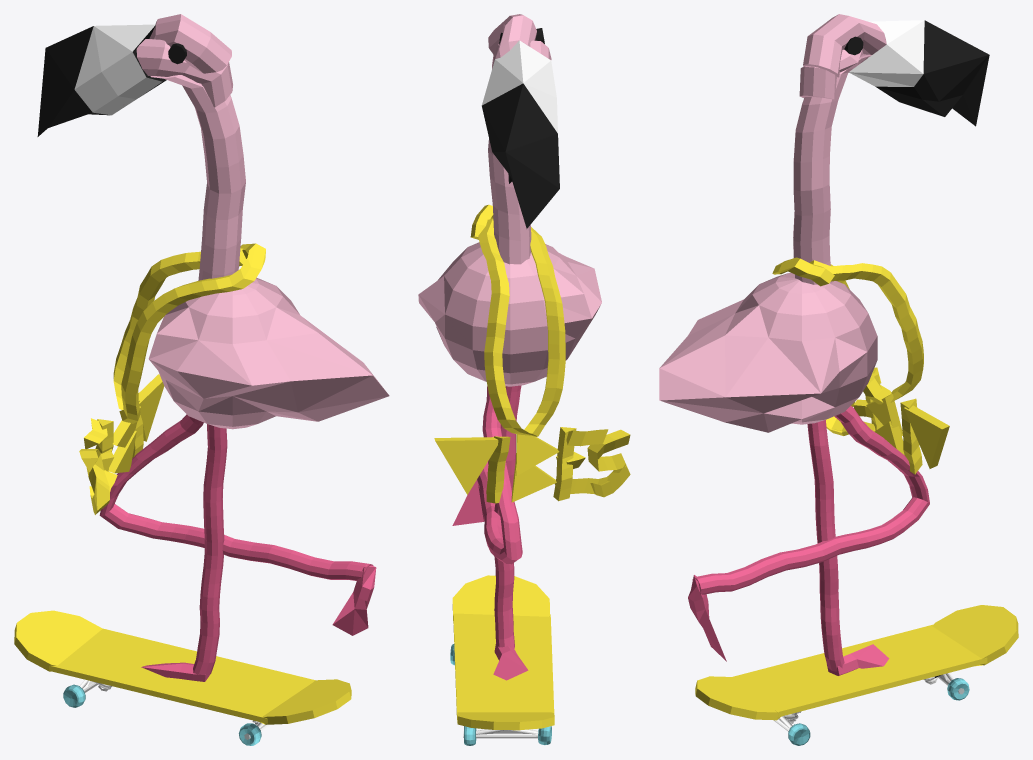
File: vibes.glb
3 renders of one model, left to right at view 1: azimuth 30°, elevation 25°; view 2: azimuth 150°, elevation 25°; view 3: azimuth 270°, elevation 25°, orthographic. The views are drawn at different scales.
Visible parts, largest first — view 1: group537424662, group312662730, group1838071820, group1372230690, group913120254, group1989746894, group1755845512, group290216238, group1460174996, group535091128, group1148749034, group1765155236 (+2 smaller); view 2: group537424662, group312662730, group1838071820, group913120254, group1989746894, group1372230690, group1755845512, group1765155236, group1148749034, group290216238, group1739752717, group614498573 (+6 smaller); view 3: group537424662, group312662730, group1838071820, group1989746894, group1372230690, group913120254, group1755845512, group290216238, group1765155236, group1460174996, group535091128, group1639385418 (+2 smaller).
Boxes of the visible parts, x1,y1,x2,y2 form: group537424662: (148, 277, 389, 429); group312662730: (14, 610, 351, 745); group1838071820: (37, 24, 166, 136); group1372230690: (150, 75, 245, 280); group913120254: (113, 243, 265, 423); group1989746894: (99, 414, 373, 580); group1755845512: (193, 424, 227, 674); group290216238: (149, 14, 231, 73); group1460174996: (136, 39, 232, 107); group535091128: (332, 564, 376, 635); group1148749034: (79, 449, 109, 514); group1765155236: (138, 374, 164, 441); group537424662: (418, 242, 601, 386); group312662730: (450, 575, 554, 745); group1838071820: (481, 40, 559, 228); group913120254: (470, 204, 565, 436); group1989746894: (477, 386, 522, 564); group1372230690: (488, 138, 531, 264); group1755845512: (494, 385, 521, 648); group1765155236: (434, 437, 498, 494); group1148749034: (587, 429, 630, 497); group290216238: (488, 14, 536, 58); group1739752717: (516, 434, 559, 475); group614498573: (553, 427, 576, 501); group537424662: (659, 272, 877, 432); group312662730: (695, 605, 1018, 745); group1838071820: (848, 20, 989, 126); group1989746894: (692, 406, 929, 594); group1372230690: (793, 54, 871, 284); group913120254: (772, 257, 923, 404); group1755845512: (807, 420, 844, 671); group290216238: (803, 14, 886, 77); group1765155236: (904, 405, 949, 468); group1460174996: (799, 49, 863, 100); group535091128: (688, 575, 726, 661); group1639385418: (827, 644, 889, 675).
Bounding box in the file's own units: 0.1382 × 0.3961 × 0.1869.
